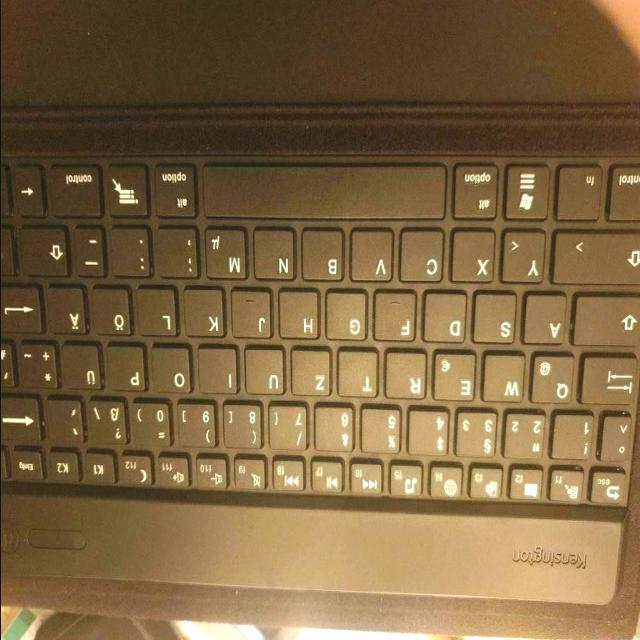0: (132, 402, 168, 446)
1: (550, 413, 594, 462)
2: (503, 410, 549, 459)
3: (454, 410, 496, 458)
4: (407, 409, 449, 457)
5: (360, 405, 402, 453)
6: (315, 404, 357, 452)
7: (269, 401, 311, 450)
8: (224, 400, 265, 450)
9: (179, 403, 215, 447)
a: (524, 291, 569, 345)
accent: (48, 398, 84, 442)
ae: (48, 286, 86, 332)
alt-left: (452, 159, 500, 219)
altgr-right: (153, 159, 197, 217)
b: (302, 225, 347, 281)
c: (400, 226, 447, 284)
caret: (599, 414, 633, 463)
comma: (157, 228, 198, 278)
d: (424, 290, 470, 344)
del: (3, 399, 43, 443)
e: (432, 352, 475, 401)
enter: (3, 286, 43, 334)
f: (375, 290, 420, 342)
g: (326, 289, 370, 341)
h: (280, 289, 322, 340)
i: (198, 345, 240, 393)
j: (231, 286, 272, 340)
k: (184, 287, 227, 337)
keyboard: (3, 125, 639, 520)
l: (138, 286, 179, 336)
m: (205, 227, 246, 279)
minus: (75, 226, 106, 276)
n: (254, 227, 295, 281)
o: (152, 345, 194, 393)
oe: (92, 287, 132, 336)
p: (107, 343, 148, 392)
plus: (18, 340, 58, 388)
point: (112, 225, 152, 275)
q: (531, 352, 577, 405)
r: (384, 350, 427, 399)
s: (473, 290, 519, 344)
shift-left: (550, 228, 640, 286)
shift-lock: (571, 293, 640, 347)
shift-right: (17, 224, 72, 278)
space: (199, 160, 449, 222)
ss: (89, 400, 125, 444)
strg-left: (607, 164, 640, 224)
strg-right: (46, 162, 105, 220)
t: (338, 349, 381, 398)
tab: (580, 353, 640, 406)
u: (245, 346, 287, 395)
ue: (62, 343, 102, 389)
v: (351, 226, 396, 282)
w: (483, 353, 528, 404)
x: (452, 228, 498, 284)
y: (500, 228, 546, 284)
z: (292, 347, 334, 396)
